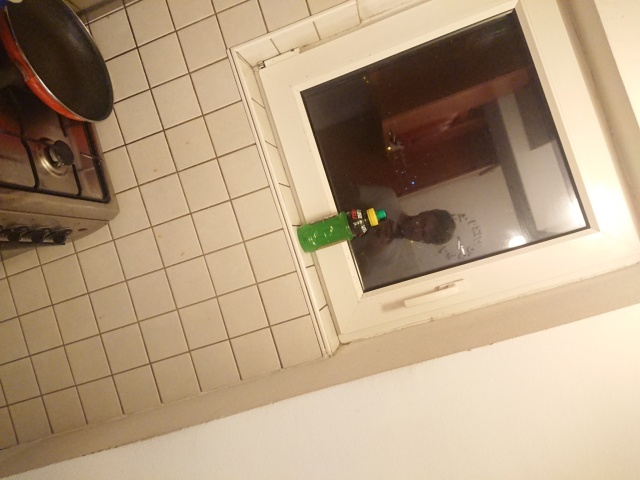Vindi Iso Sport Lemon-Grapefruit 500mL: (295, 205, 388, 255)
